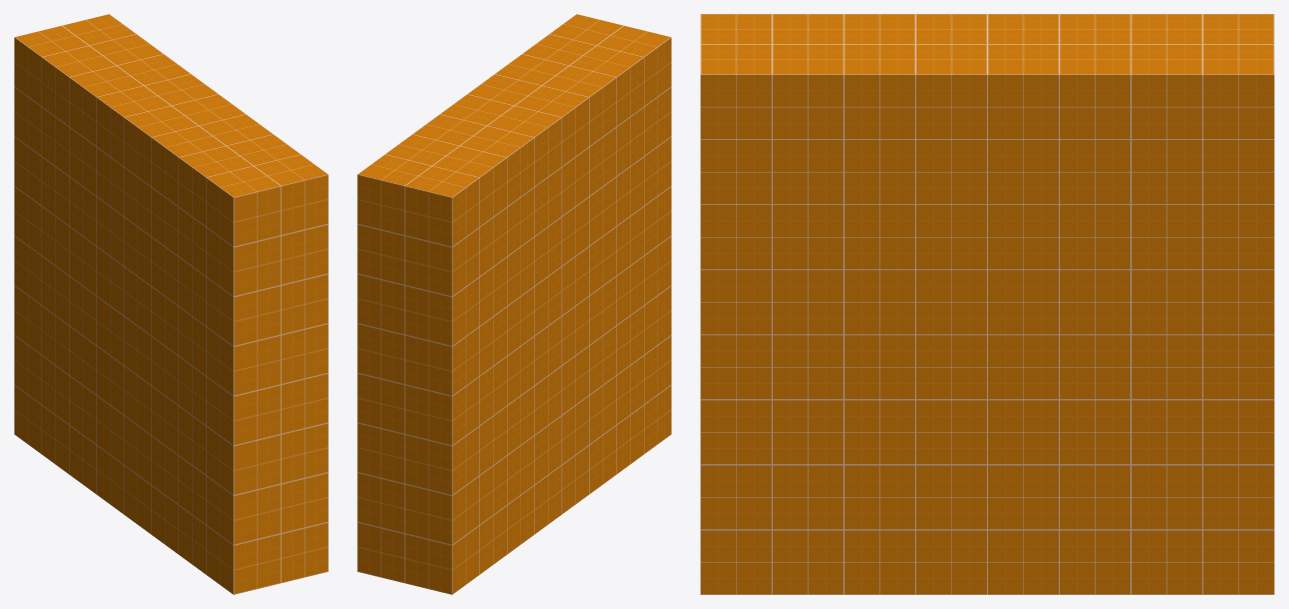
File: Block_2x8x8.obj
3 views of the same model, side by side, from view 1: azimuth 30°, elevation 25°; view 2: azimuth 150°, elevation 25°; view 3: azimuth 270°, elevation 25° (orthographic). The views are drawn at different scales.
Visible parts, largest first — view 1: Block_2x8x8_Cube.171; view 2: Block_2x8x8_Cube.171; view 3: Block_2x8x8_Cube.171.
Boxes of the visible parts, x1,y1,x2,y2 form: Block_2x8x8_Cube.171: [14, 14, 328, 594]; Block_2x8x8_Cube.171: [357, 14, 671, 594]; Block_2x8x8_Cube.171: [700, 14, 1274, 594].
Bounding box in the file's own units: 2 × 8 × 8.
1 material, 1 textured.
